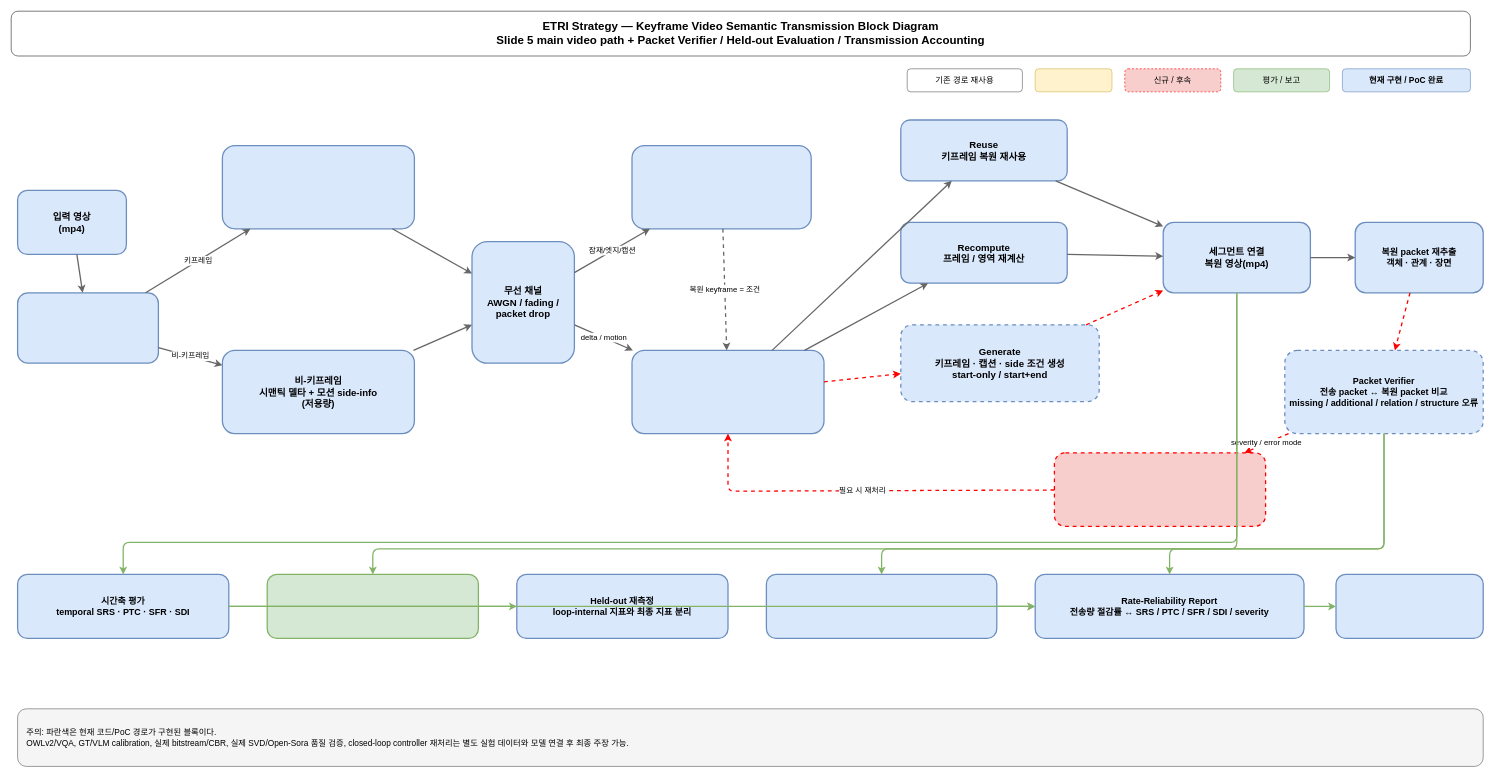
This 1495x778 diagram has some shape labels left out. The centre of each missing label's shape, as x and y in pixels:
Presence Calibration CLIP-only ↔ OWLv2 / VQA / GT: point (372, 606)
SGD-JSCC 확산 복원 키프레임 / 재계산 프레임: point (721, 187)
Transmission Accounting semantic-unit · channel-symbol · bit 절감률: point (881, 606)
세그먼트 판단 게이트 의미 델타 + 모션 이중 게이트: point (727, 391)
오류 유형별 Controller 추가 객체 억제 · 누락 객체 강조 구조 왜곡 보정 / fallback: point (1159, 489)
최종 리포트 1~6차 산출물 대응표 + 남은 한계: point (1409, 606)
키프레임 기존 SGD-JSCC 송신 잠재 · 엣지 · 캡션: point (318, 187)
키프레임 추출 장면 전환 감지: point (88, 328)
확장: point (1073, 80)
